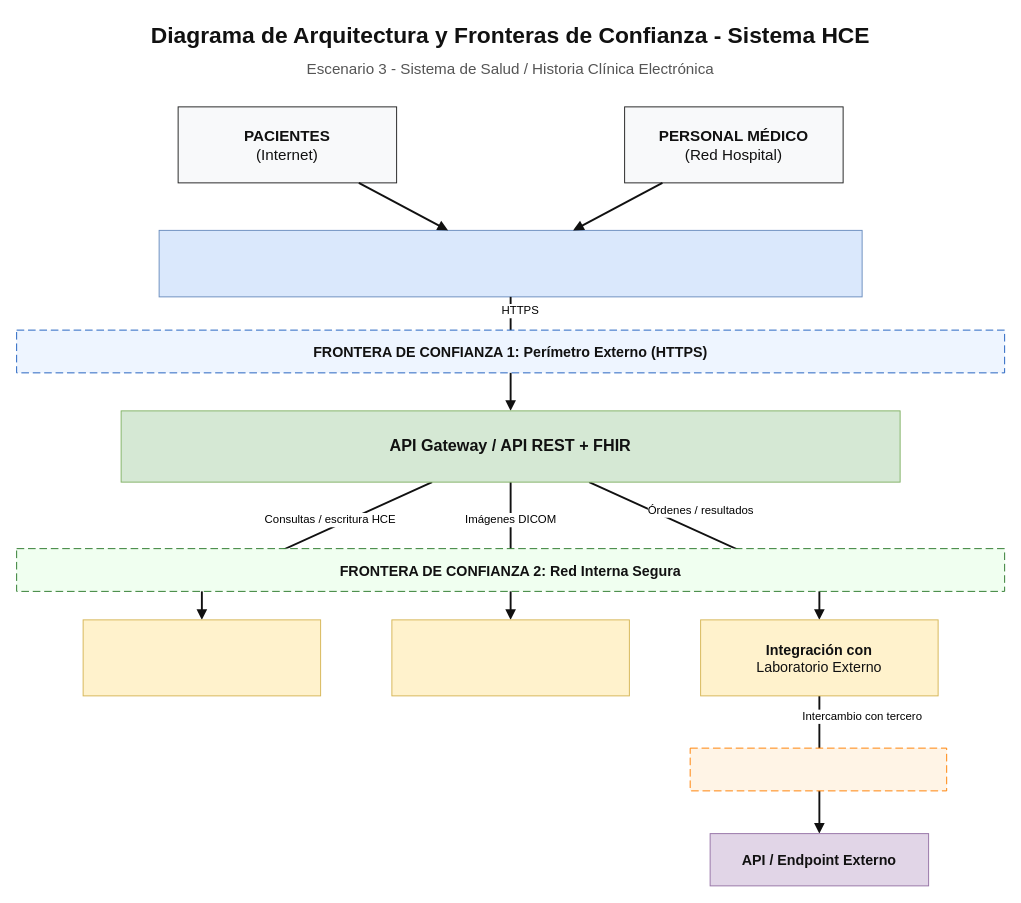
The diagram is 1021 pixels wide and 903 high, and some of its shapes have lost their labels. Each missing label, with the box of its shape:
Aplicación Web (React App): (158, 229, 862, 297)
Base de Datos MySQL (HCE): (82, 619, 321, 696)
FRONTERA 3: Terceros: (689, 747, 947, 791)
Servidor PACS (Imágenes DICOM): (391, 619, 629, 696)
